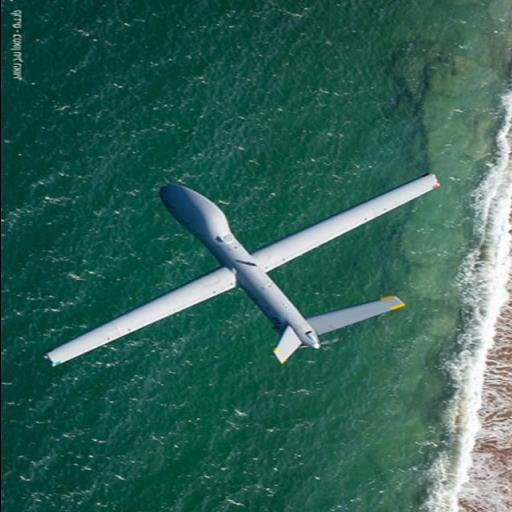uav: (40, 171, 440, 371)
